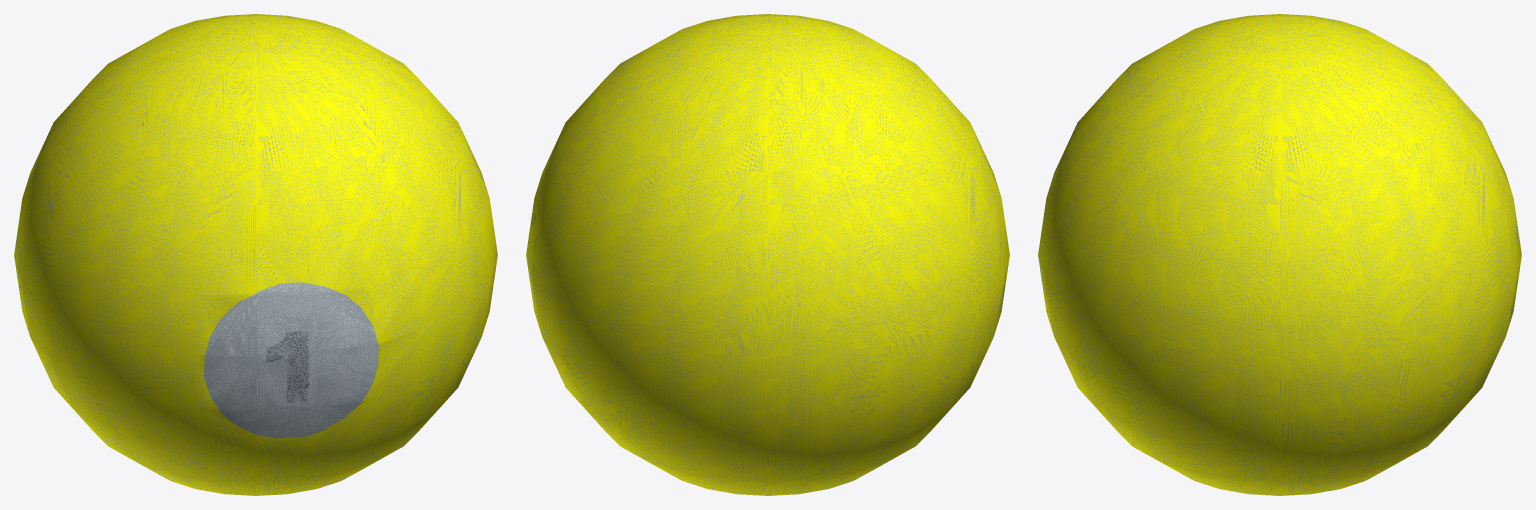
File: Ball2.fbx
3 renders of one model, left to right at view 1: azimuth 30°, elevation 25°; view 2: azimuth 150°, elevation 25°; view 3: azimuth 270°, elevation 25°, orthographic.
Visible parts, largest first — view 1: Group1; view 2: Group1; view 3: Group1.
Boxes of the visible parts, x1,y1,x2,y2 form: Group1: (14,14,497,495); Group1: (526,14,1009,495); Group1: (1038,14,1521,495).
Size of the model in its own units: 57.15 by 57.15 by 57.15.
